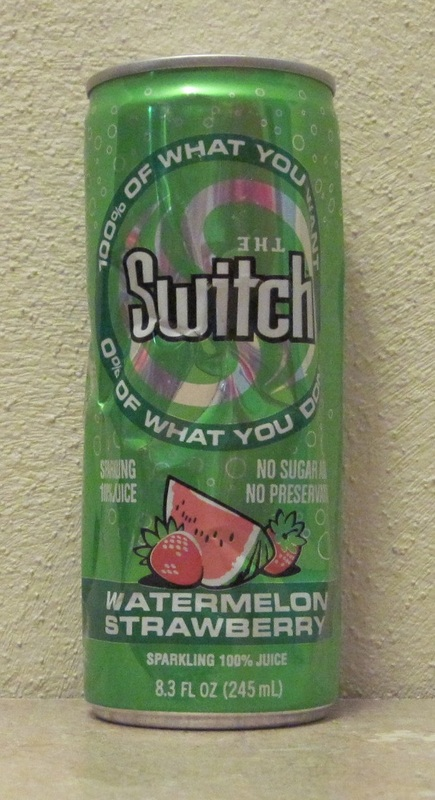Can: (76, 60, 355, 737)
